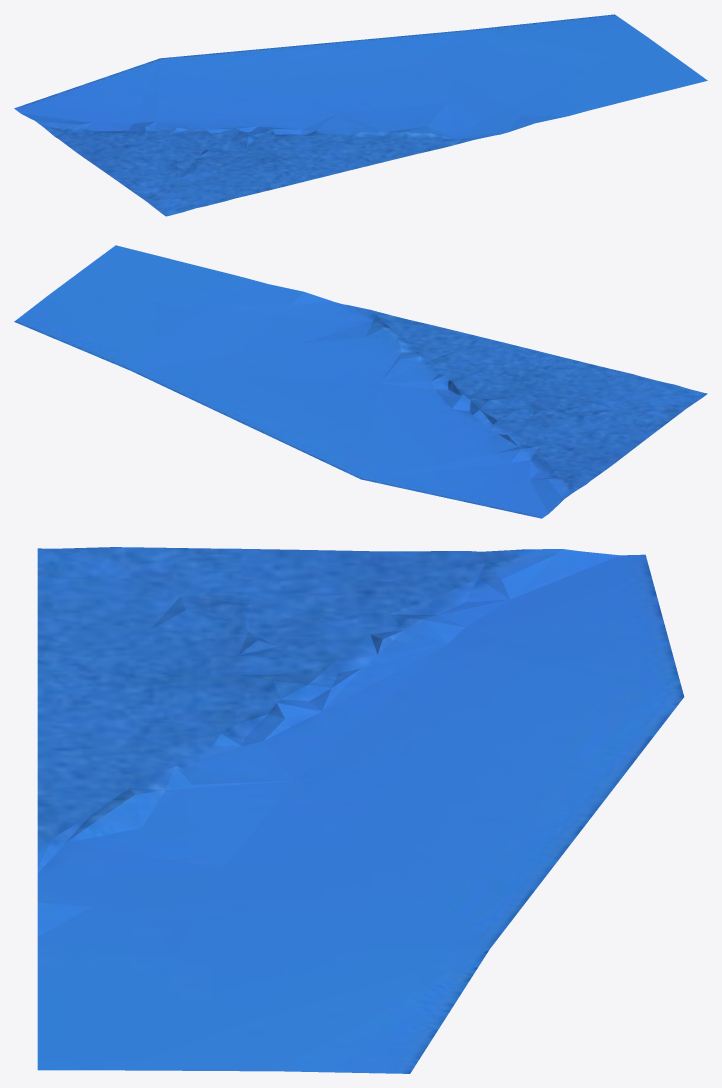
3 renders of one model, top to bottom at view 1: azimuth 30°, elevation 25°; view 2: azimuth 150°, elevation 25°; view 3: azimuth 270°, elevation 25°, orthographic. The views are drawn at different scales.
Size of the model in its own units: 13.06 by 0.177 by 6.75.
Materials: 1 (1 with a texture image).
